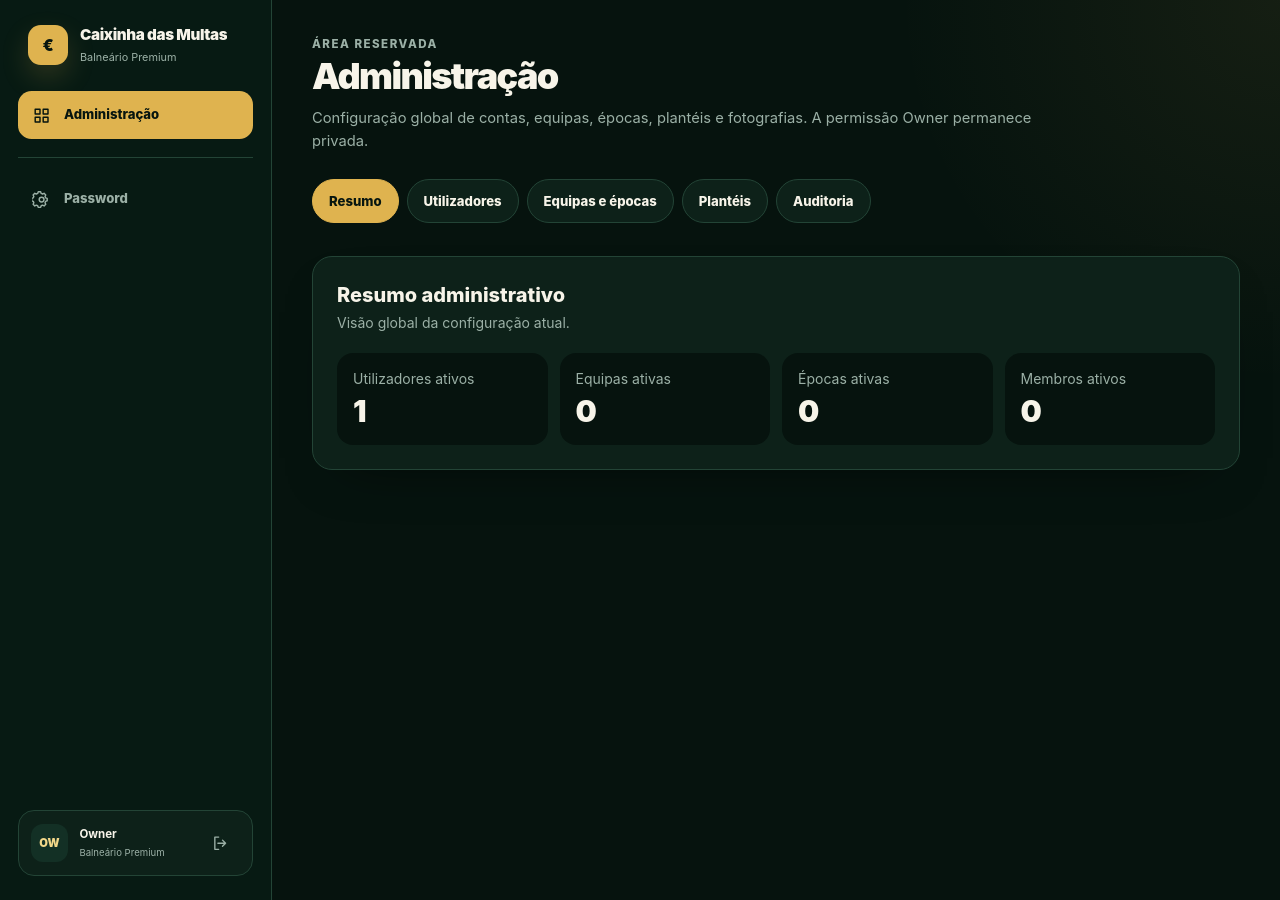
Test: Painel Super Admin › repete a mesma chave quando a resposta de reposição falha
Expected: the heading "Administração" is shown, left=312, top=54, right=558, bottom=98
What coordinates should you click on to do the following:
click the button "Utilizadores"
I would click on:
 (462, 201)
Its box is left=406, top=179, right=518, bottom=223.
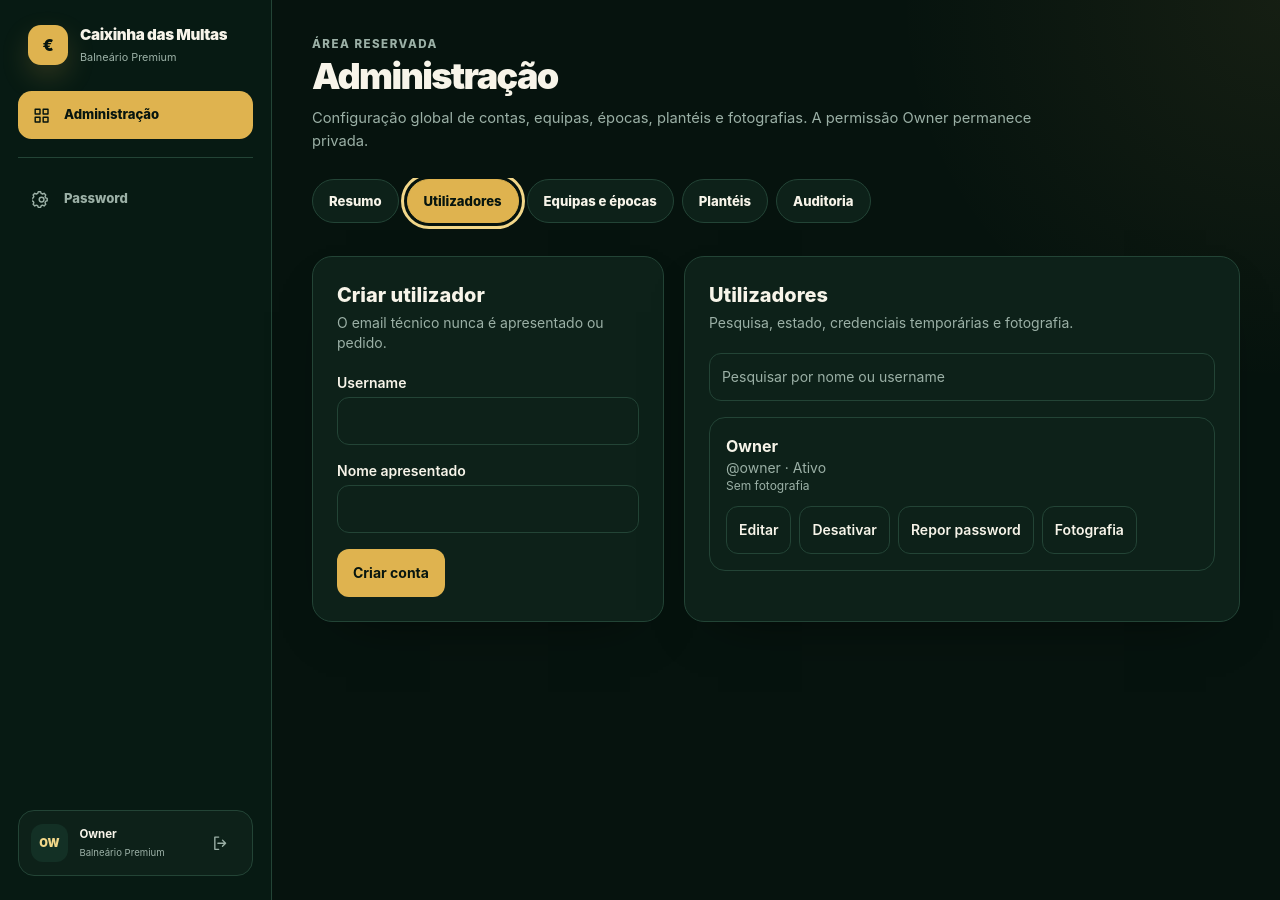
What coordinates should you click on to do the following:
click the button "Repor password"
I would click on:
 (966, 530)
Its box is left=898, top=506, right=1034, bottom=554.
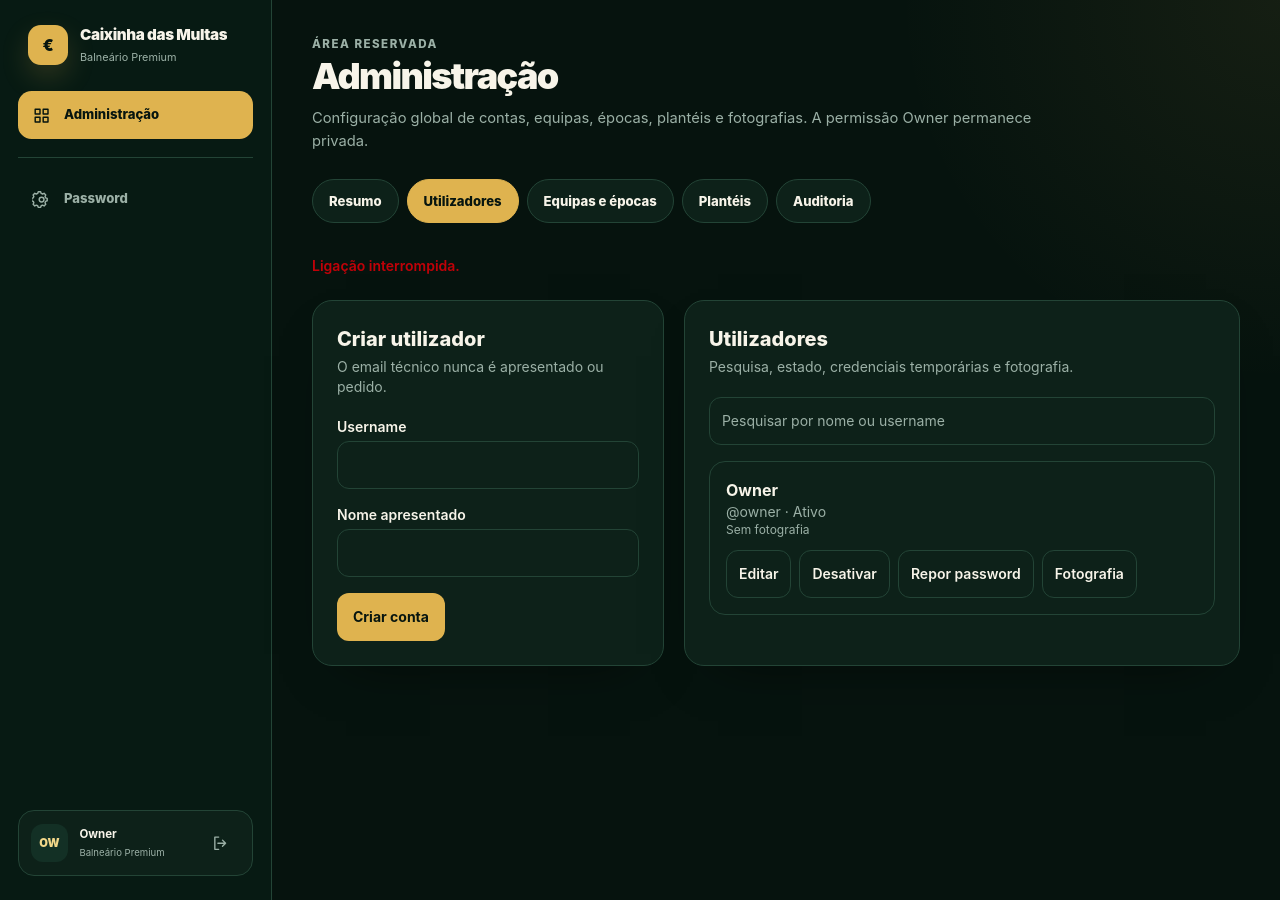
Result: the text "Ligação interrompida." is shown at left=312, top=257, right=460, bottom=274
What coordinates should you click on to do the following:
click the button "Repor password"
I would click on:
 (966, 574)
Its box is left=898, top=550, right=1034, bottom=598.
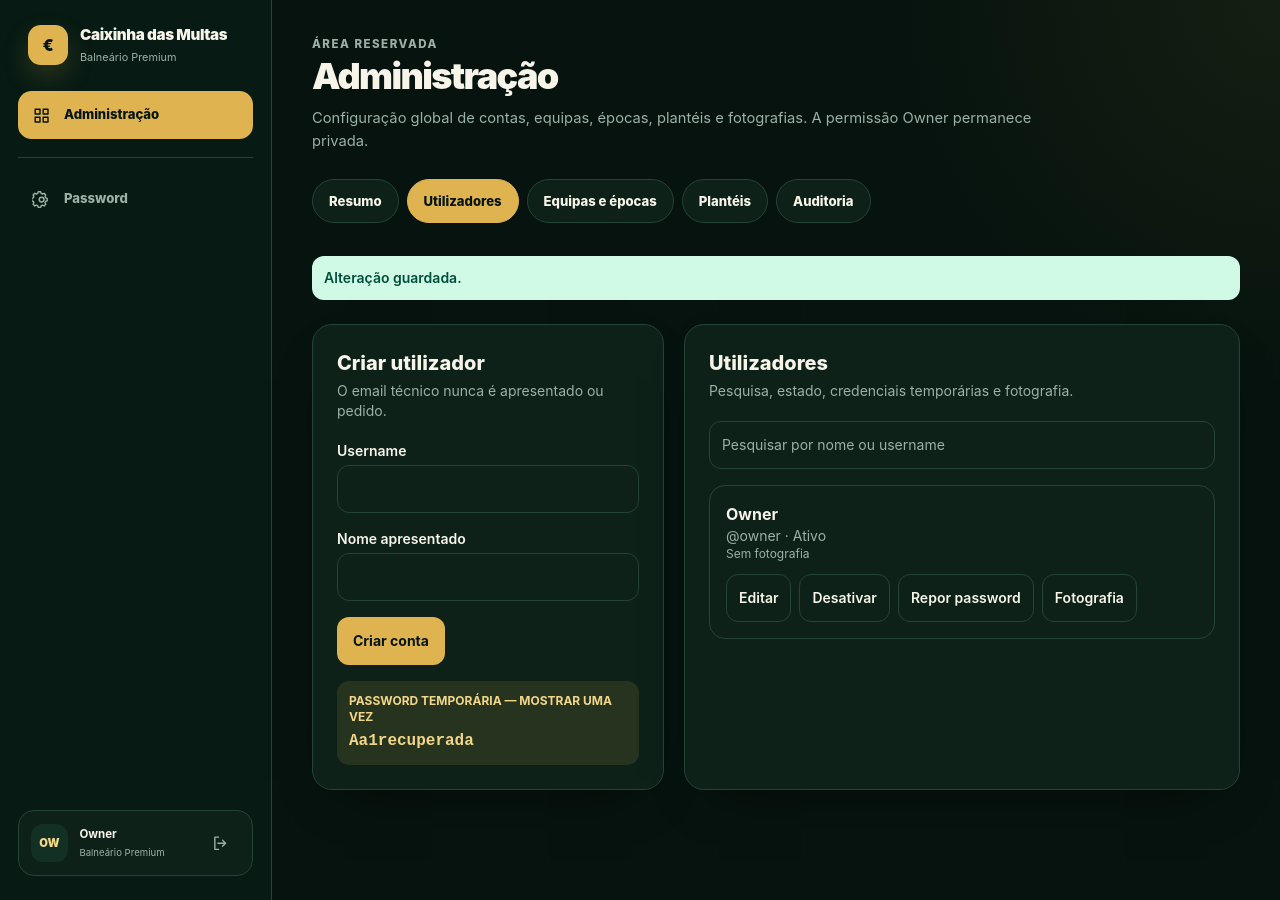
Result: the text "Aa1recuperada" is shown at left=349, top=732, right=474, bottom=750
